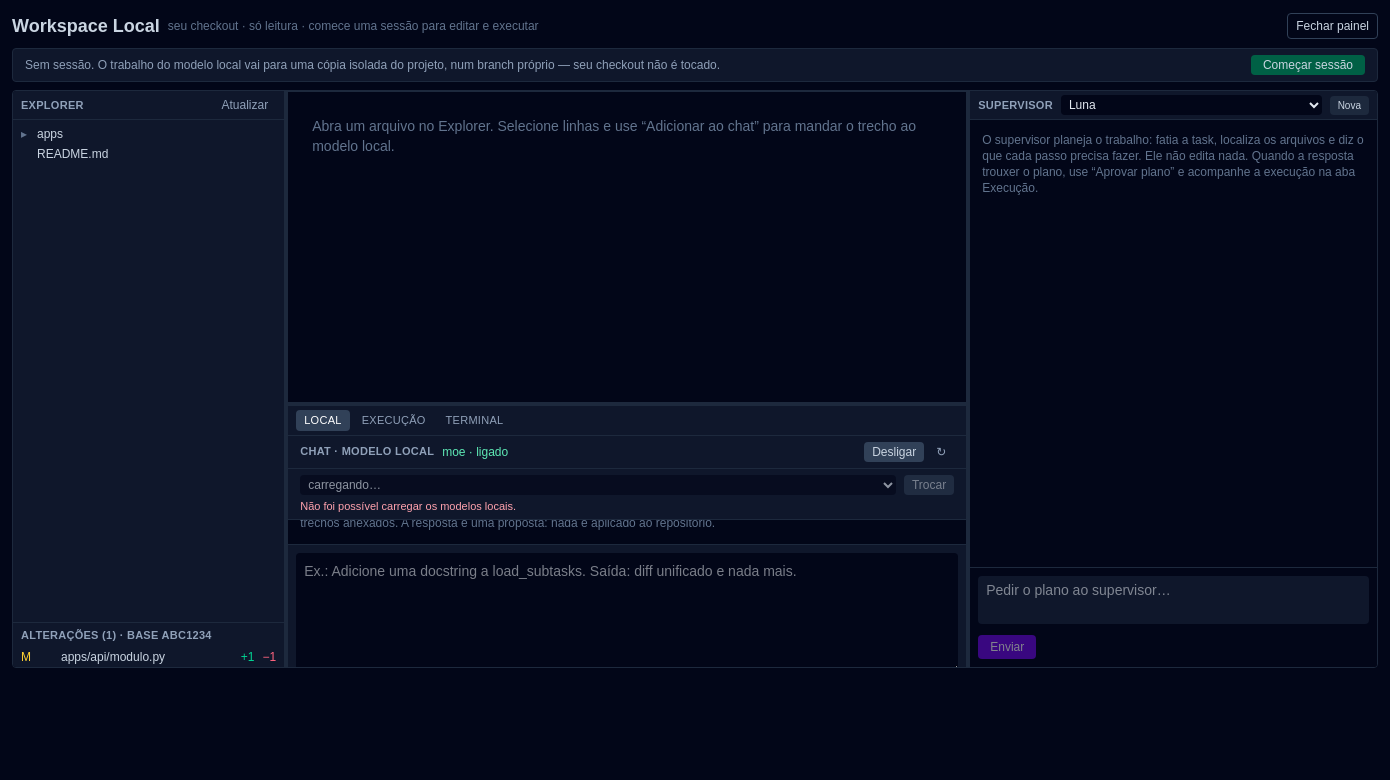
Workspace Local › abre arquivo pelo explorer, seleciona linhas e anexa ao chat
The width and height of the screenshot is (1390, 780).
(page scrolled)
Click the button "▸ apps": coordinates (24, 134) x1=13 y1=124 x2=284 y2=144
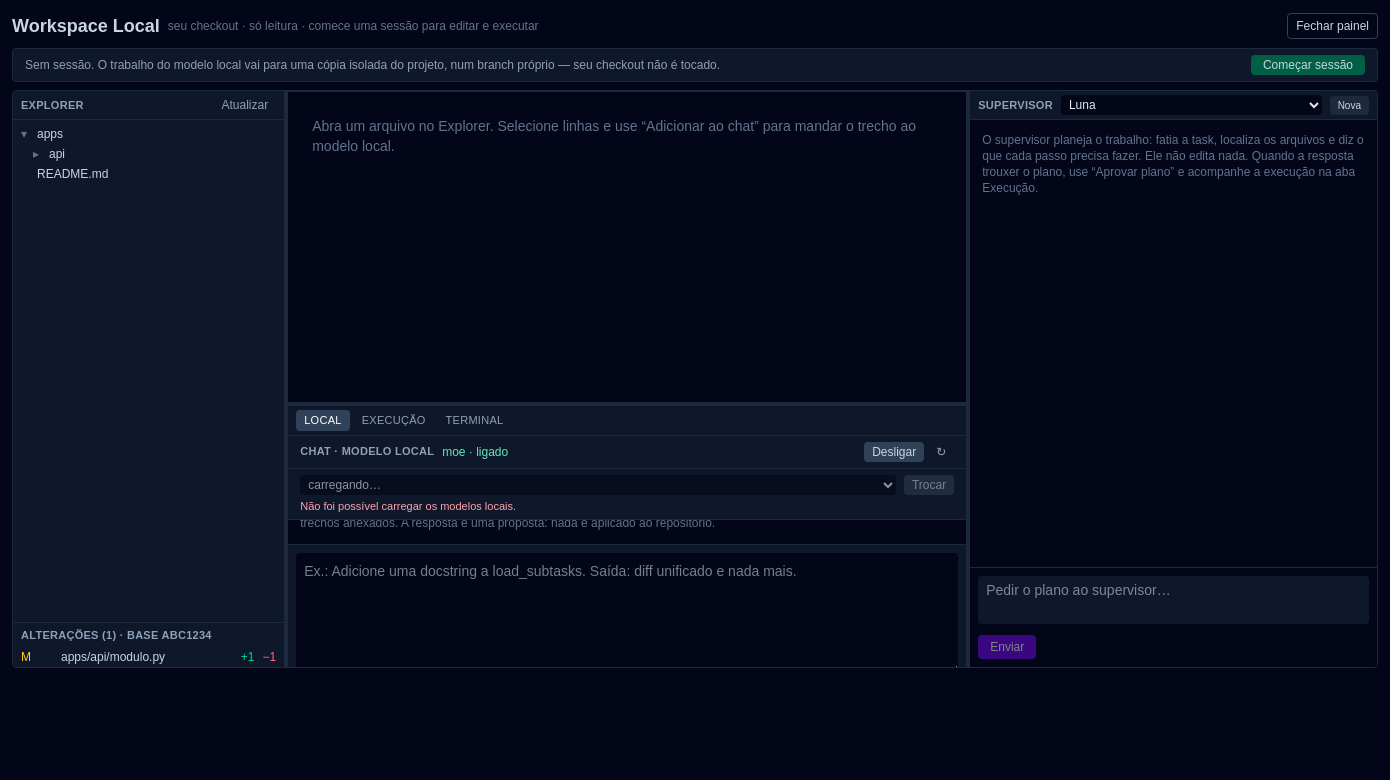
Click the button "▸ api": coordinates (36, 154) x1=13 y1=144 x2=284 y2=164
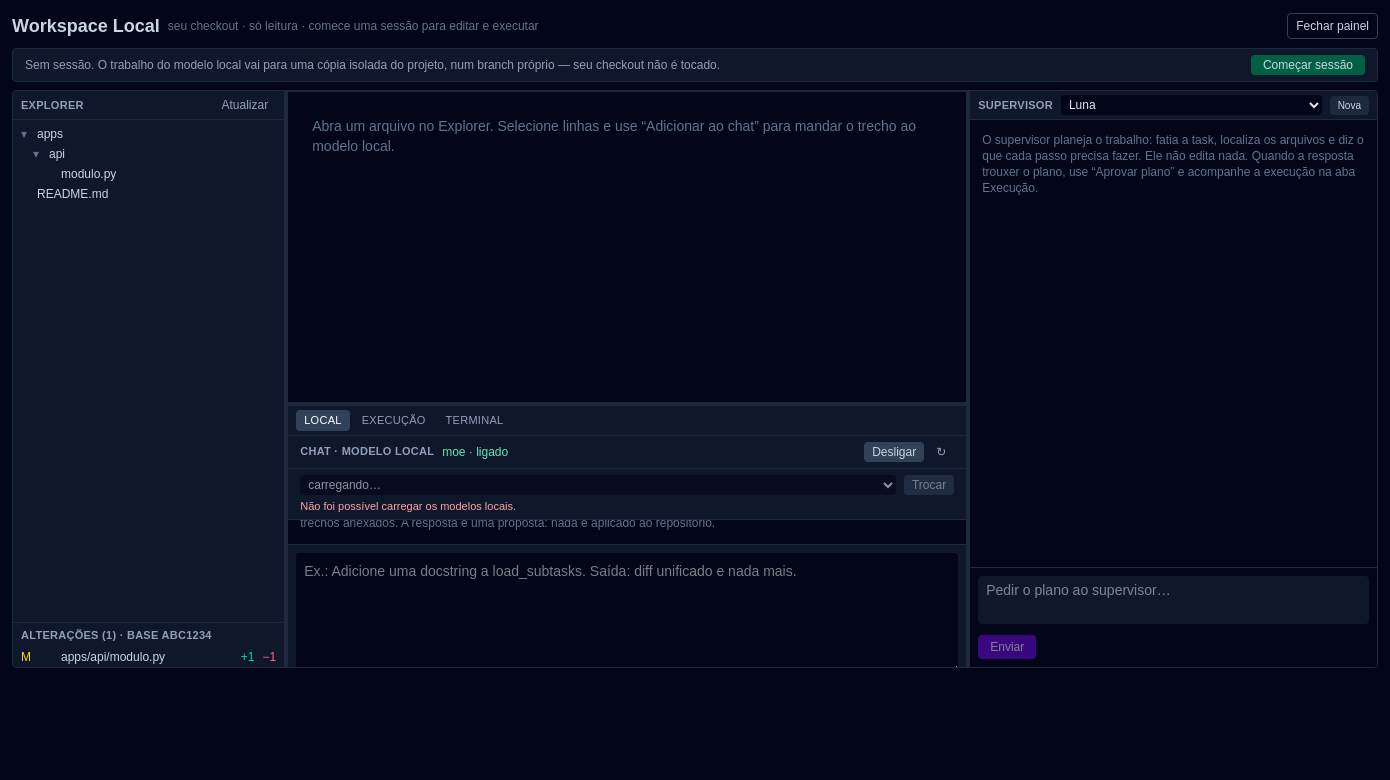
Click the button "modulo.py": coordinates (89, 174) x1=13 y1=164 x2=284 y2=184
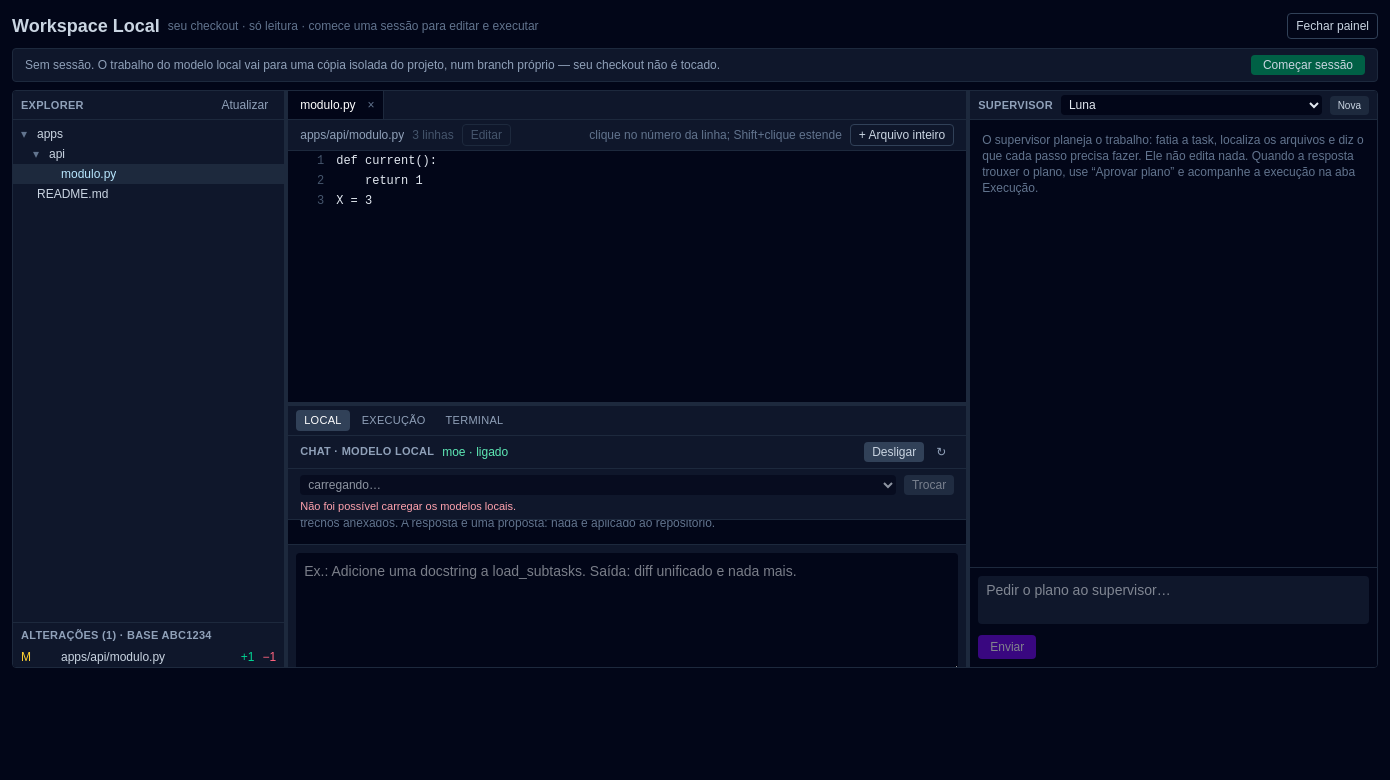
Click the button named "Linha 2": coordinates (312, 181) x1=288 y1=171 x2=336 y2=191
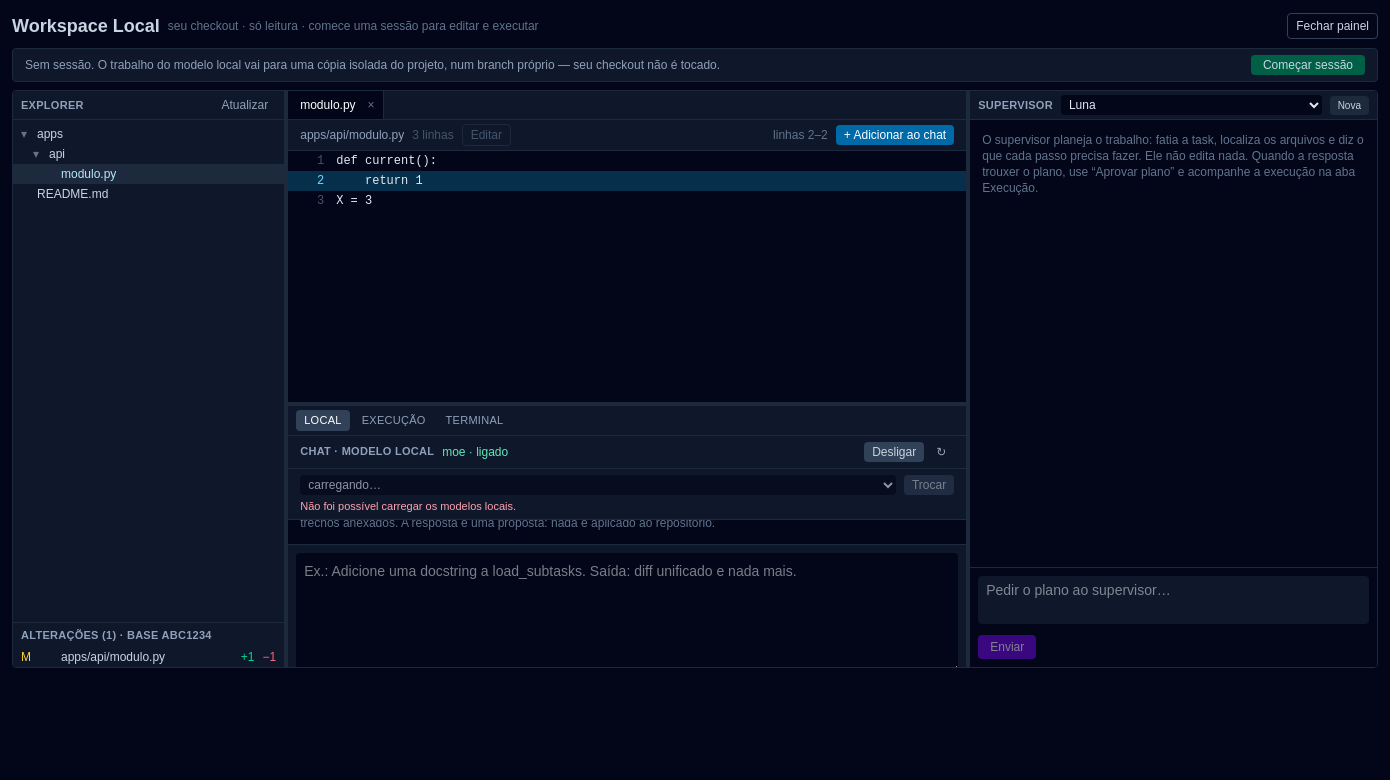
Click the button named "Linha 3": coordinates (312, 201) x1=288 y1=191 x2=336 y2=211
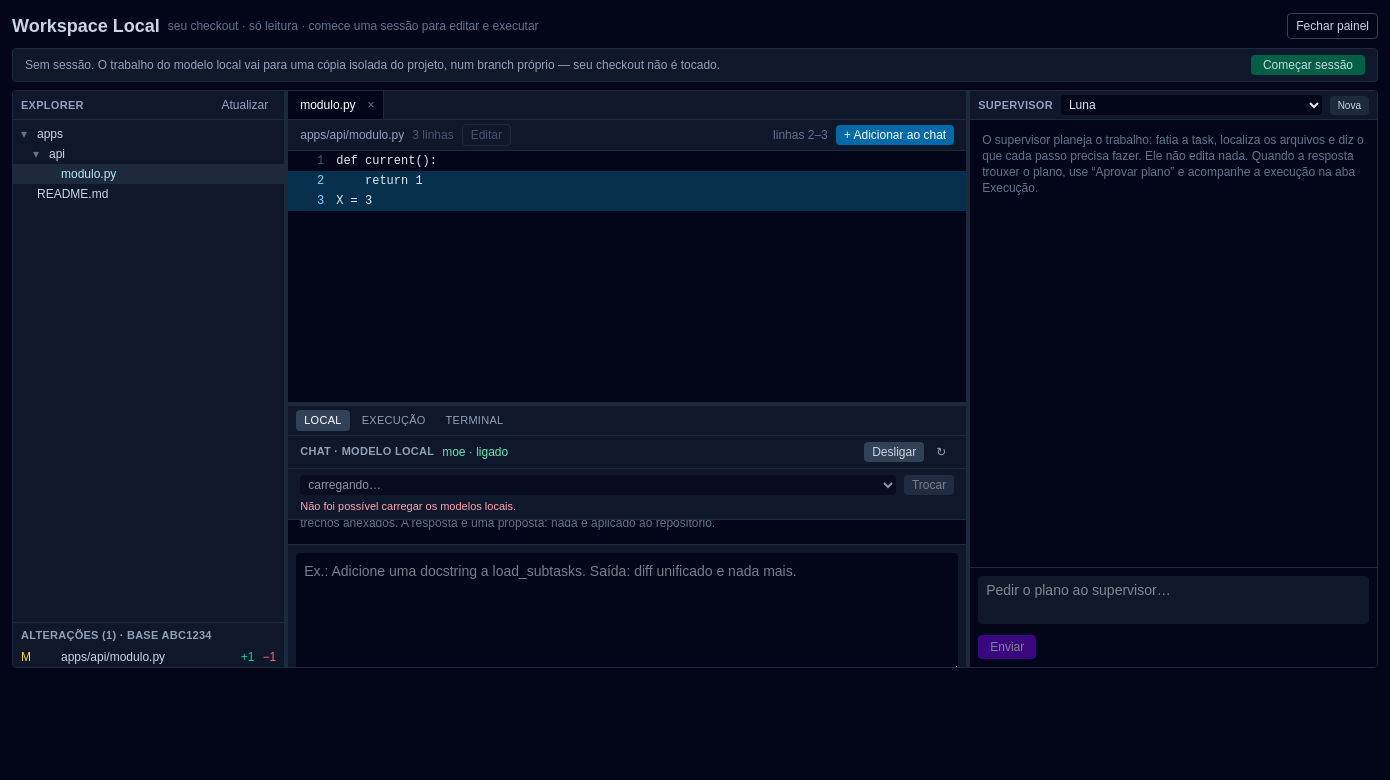
Click the button "+ Adicionar ao chat": coordinates (895, 135) x1=836 y1=125 x2=954 y2=145
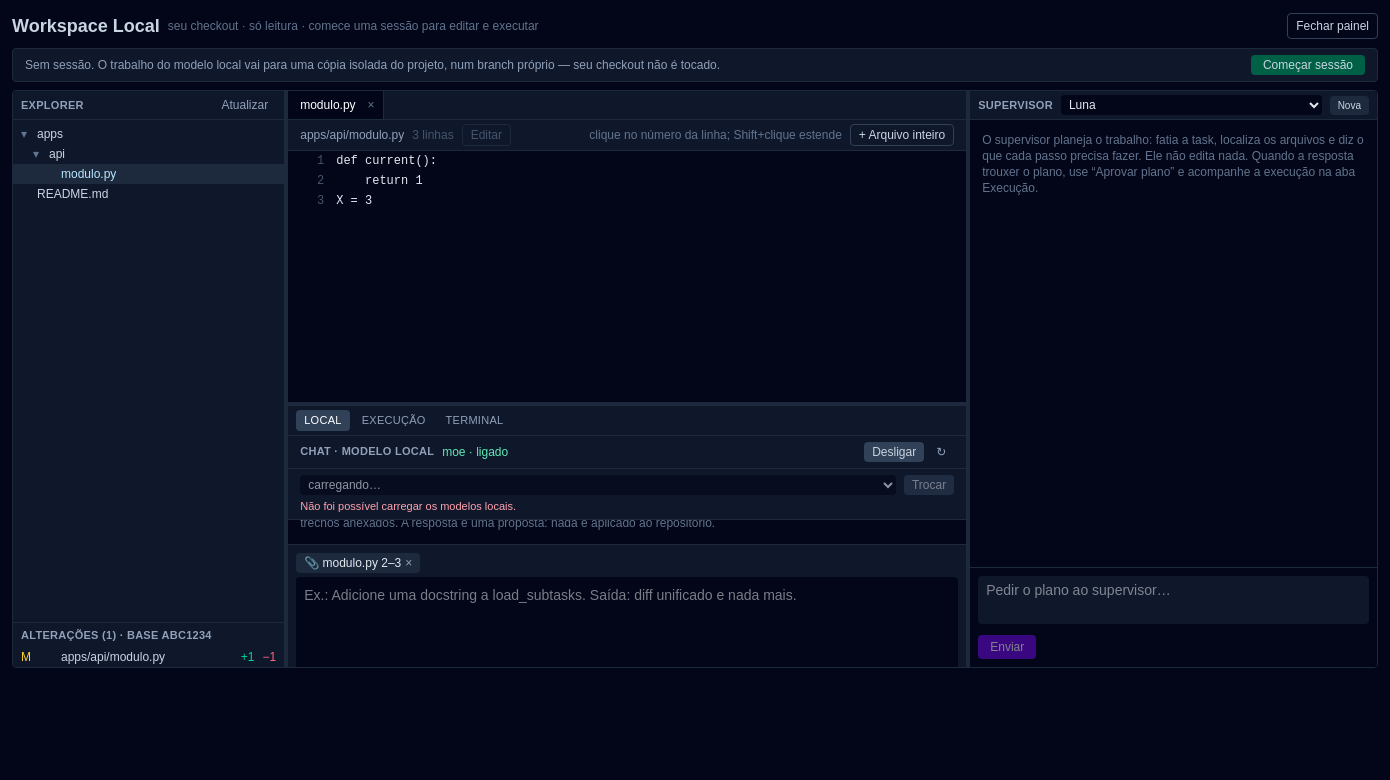
Now the list item "📎 modulo.py 2–3 ×" is shown, box x1=296 y1=553 x2=420 y2=573
